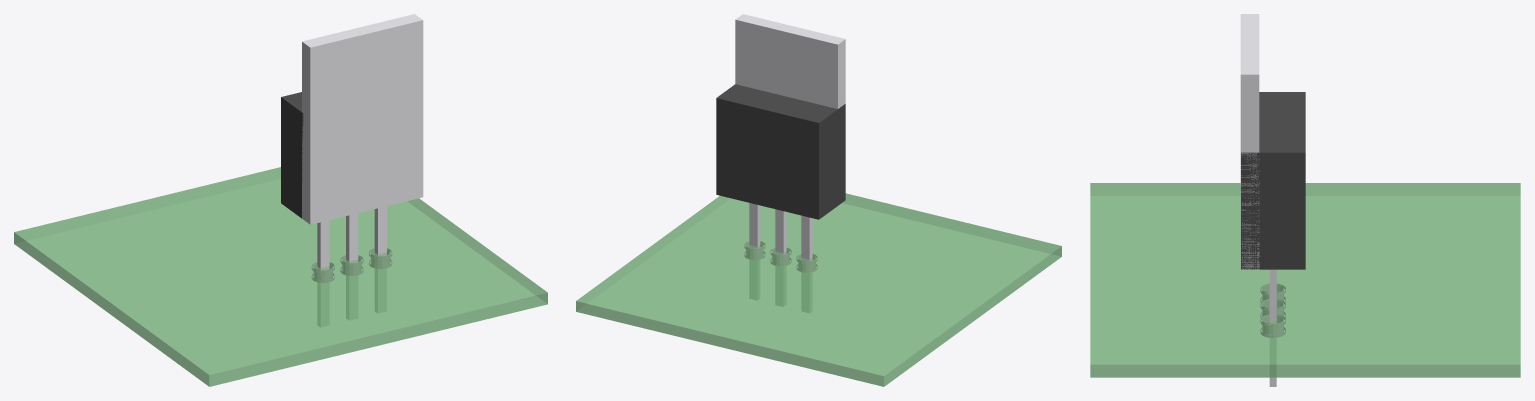
Rendered from board.glb.
3 renders of one model, left to right at view 1: azimuth 30°, elevation 25°; view 2: azimuth 150°, elevation 25°; view 3: azimuth 270°, elevation 25°, orthographic. The views are drawn at different scales.
Visible parts, largest first — view 1: Substrate_Layer_0, U1_tab, U1_body, U1_pin_1, U1_pin_2, U1_pin_0; view 2: Substrate_Layer_0, U1_body, U1_tab, U1_pin_2, U1_pin_0, U1_pin_1; view 3: Substrate_Layer_0, U1_body, U1_tab, U1_pin_2.
Part boxes in pixels (<box>): Substrate_Layer_0: <box>14,167,547,386</box>; U1_tab: <box>302,14,423,224</box>; U1_body: <box>281,92,303,218</box>; U1_pin_1: <box>346,213,358,319</box>; U1_pin_2: <box>374,206,386,312</box>; U1_pin_0: <box>317,220,329,326</box>; Substrate_Layer_0: <box>576,193,1061,386</box>; U1_body: <box>716,84,845,219</box>; U1_tab: <box>735,14,845,108</box>; U1_pin_2: <box>749,203,760,299</box>; U1_pin_0: <box>801,215,812,312</box>; U1_pin_1: <box>775,209,786,306</box>; Substrate_Layer_0: <box>1090,183,1520,377</box>; U1_body: <box>1241,92,1305,269</box>; U1_tab: <box>1240,14,1259,269</box>; U1_pin_2: <box>1269,269,1276,386</box>.
Bounding box in the file's own units: 0.03 × 0.025 × 0.03.
